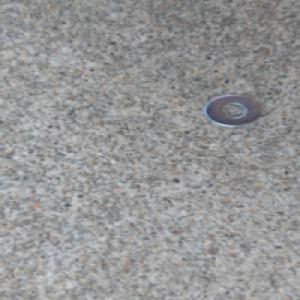Washer: (200, 92, 263, 128)
